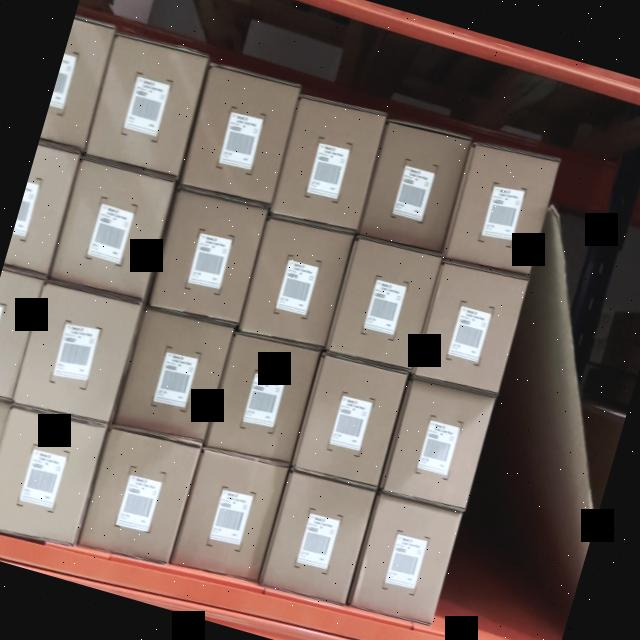box: (14, 280, 140, 426), (50, 158, 176, 296), (177, 69, 298, 206), (86, 39, 204, 173), (147, 192, 264, 324), (294, 355, 408, 489), (327, 236, 439, 370), (272, 99, 385, 231), (116, 310, 230, 440), (173, 448, 286, 579), (82, 431, 197, 558), (448, 144, 557, 276), (358, 122, 468, 252), (204, 335, 316, 462), (385, 379, 494, 509), (238, 222, 348, 348), (265, 476, 374, 602), (0, 411, 101, 545), (352, 500, 459, 624), (418, 267, 524, 392)
